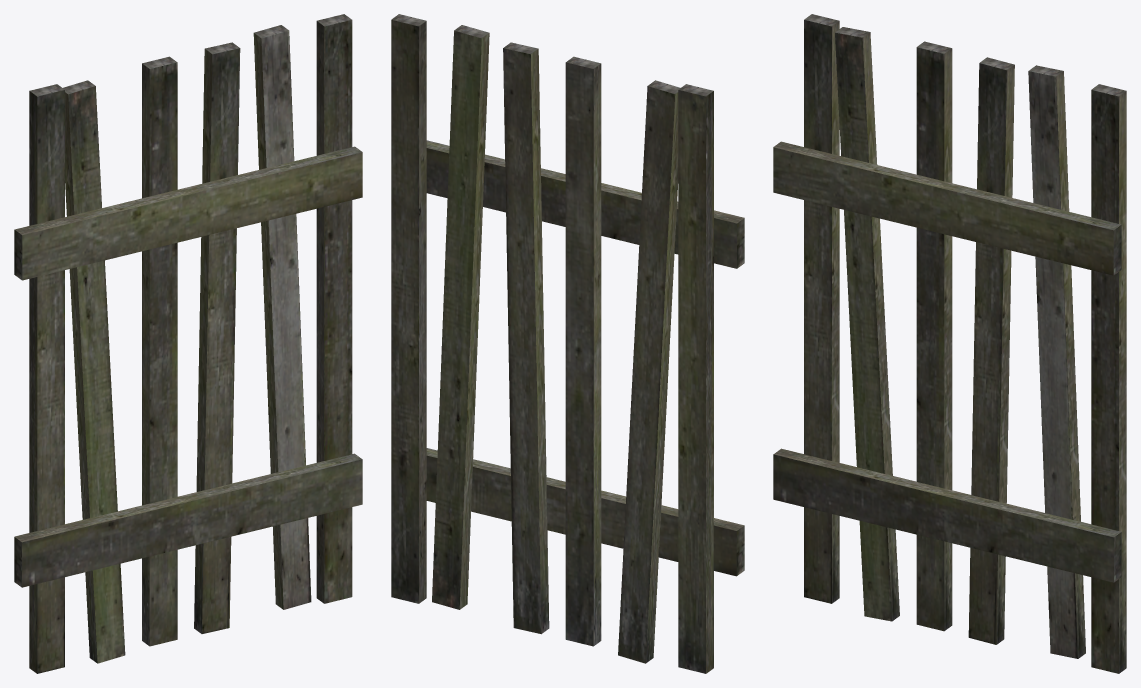
The model's file is fence2.obj.
The picture shows the model from 3 angles, left to right: view 1: azimuth 30°, elevation 25°; view 2: azimuth 150°, elevation 25°; view 3: azimuth 330°, elevation 25°; orthographic projection.
Visible parts, largest first — view 1: 0.002; view 2: 0.002; view 3: 0.002.
Boxes of the visible parts, x1,y1,x2,y2 form: 0.002: (14, 14, 362, 673); 0.002: (391, 14, 744, 673); 0.002: (773, 14, 1126, 673).
Size of the model in its own units: 1 by 1.65 by 0.0806.
